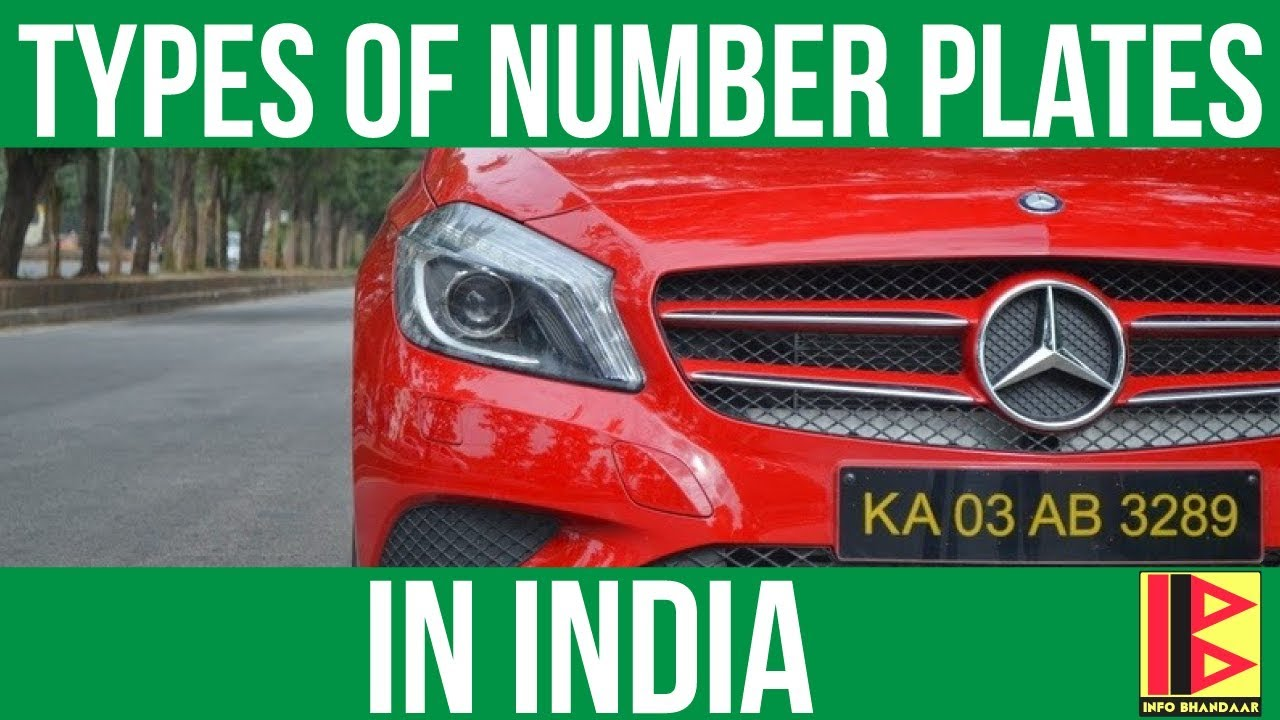number_plate: (833, 455, 1269, 565)
